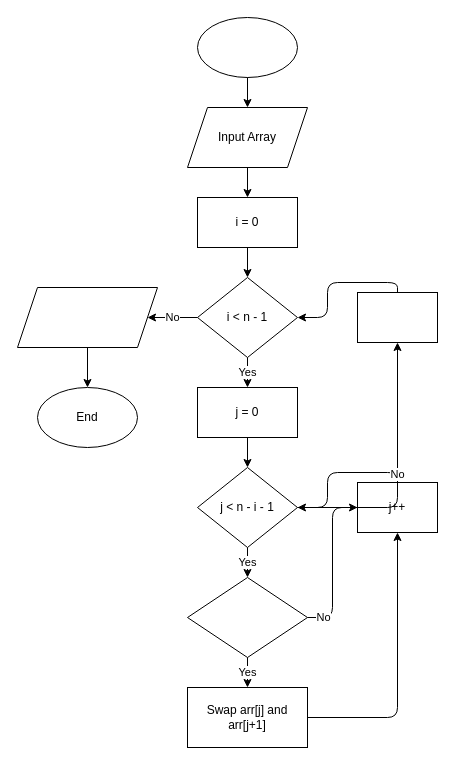
The diagram is 455 pixels wide and 765 high, and some of its shapes have lost their labels. The centre of each missing label's shape, as x and y in pixels:
"arr[j] > arr[j+1]" belongs at [247,617].
"i++" belongs at [397,317].
"Output Sorted Array" belongs at [87,317].
"Start" belongs at [247,47].
